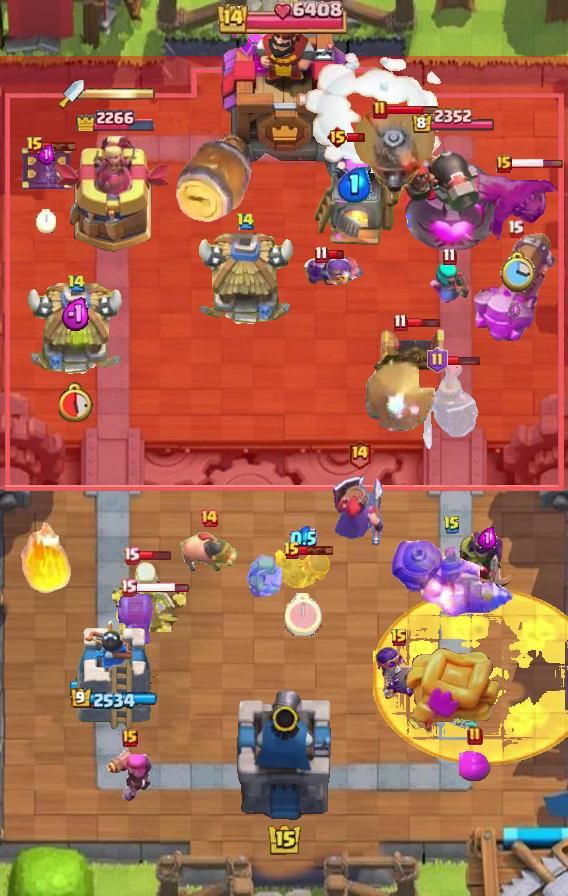bar: (52, 132, 176, 256)
barbarian-hut: (451, 528, 523, 594)
clock: (217, 0, 351, 34)
dark-prince: (346, 111, 440, 199)
dirt: (173, 138, 255, 224)
electro-spirit: (338, 167, 372, 203), (61, 296, 91, 331), (290, 524, 317, 551), (478, 526, 498, 550), (37, 143, 55, 165), (508, 301, 522, 318)
elixir: (285, 593, 322, 636), (499, 250, 535, 294), (59, 382, 94, 422), (36, 209, 56, 233)
elixir-golem-big: (418, 359, 480, 453), (331, 474, 387, 548)
emote: (134, 581, 189, 595), (510, 159, 564, 170), (385, 105, 438, 116), (406, 315, 442, 329), (137, 549, 172, 561), (298, 544, 334, 555), (43, 140, 78, 151), (446, 355, 481, 366), (347, 133, 366, 144), (326, 248, 345, 259)
executioner: (180, 530, 238, 574)
firecracker-evolution: (303, 254, 365, 288)
furnace: (470, 231, 560, 345)
goblin-ball: (374, 646, 424, 700), (274, 548, 332, 592)
goblin-brawler: (377, 327, 449, 375)
hunter: (310, 141, 400, 249)
ice-spirit-evolution-symbol: (19, 143, 73, 193)
king-tower: (211, 7, 357, 181), (232, 686, 336, 826)
king-tower-bar: (84, 87, 156, 101)
knight: (115, 590, 165, 646)
miner: (459, 751, 491, 781)
mother-witch: (474, 166, 560, 250)
phoenix-egg: (373, 586, 568, 765)
poison: (98, 558, 186, 632)
prince: (194, 233, 296, 329), (25, 283, 127, 379)
queen-tower: (70, 616, 158, 731)
selected: (412, 109, 497, 136), (73, 104, 155, 131), (70, 688, 158, 712)
text: (348, 438, 373, 469), (326, 125, 349, 149), (428, 347, 449, 373), (199, 508, 219, 528), (67, 274, 86, 293), (26, 136, 44, 156), (443, 515, 461, 535), (283, 541, 301, 561), (390, 628, 408, 648), (237, 213, 256, 231), (119, 579, 137, 597), (508, 218, 525, 237), (123, 547, 140, 566), (372, 100, 388, 120), (467, 726, 483, 746), (496, 155, 512, 173), (122, 729, 138, 747), (442, 246, 457, 265), (314, 245, 329, 263), (392, 313, 407, 331)
tombstone: (107, 747, 153, 803)
tower-bar: (402, 136, 504, 256)
valkyrie: (14, 508, 74, 598)
wall-breaker: (300, 51, 452, 173)
witch: (428, 261, 470, 307)
wizard: (390, 539, 514, 617)
x-bow: (364, 352, 450, 434)
zap: (246, 550, 286, 600)
